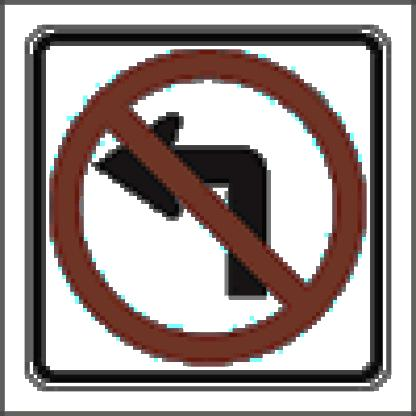No left turn: (47, 46, 366, 381)
